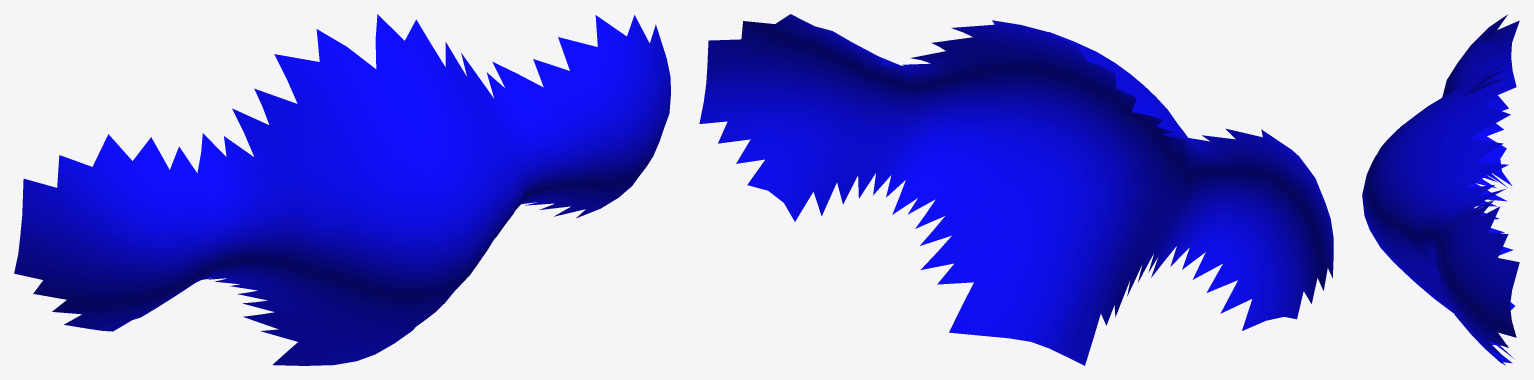
Rendered from blob2_opt_final4.obj.
3 renders of one model, left to right at view 1: azimuth 30°, elevation 25°; view 2: azimuth 150°, elevation 25°; view 3: azimuth 270°, elevation 25°, orthographic. The views are drawn at different scales.
Size of the model in its own units: 39.78 by 19.3 by 10.58.
